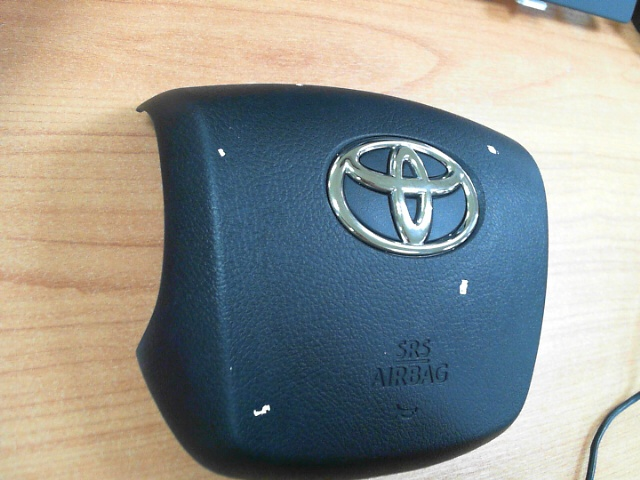Airbag: (253, 404, 271, 417), (459, 279, 468, 295), (487, 145, 498, 155), (218, 148, 226, 157)
